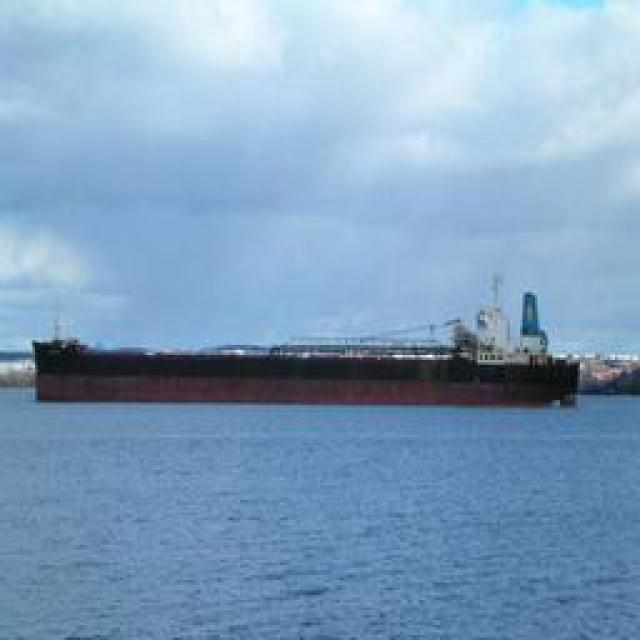CIV_Ship: (25, 288, 593, 406)
